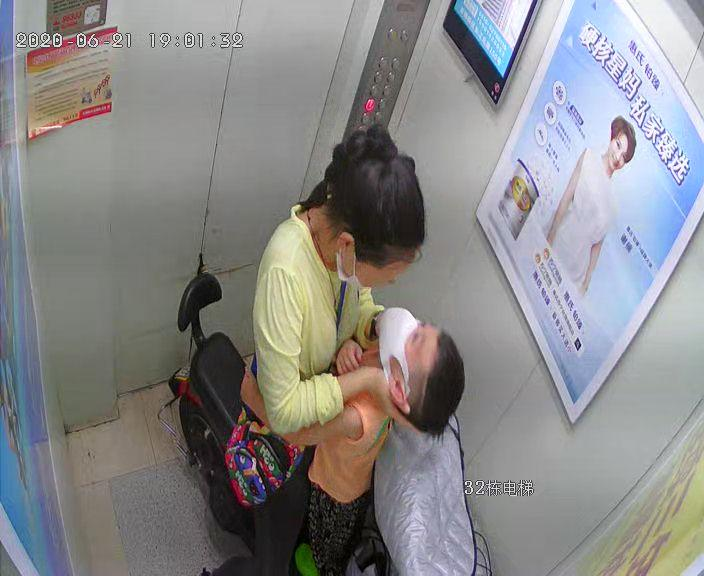Electric-bicycle: (157, 267, 491, 575)
